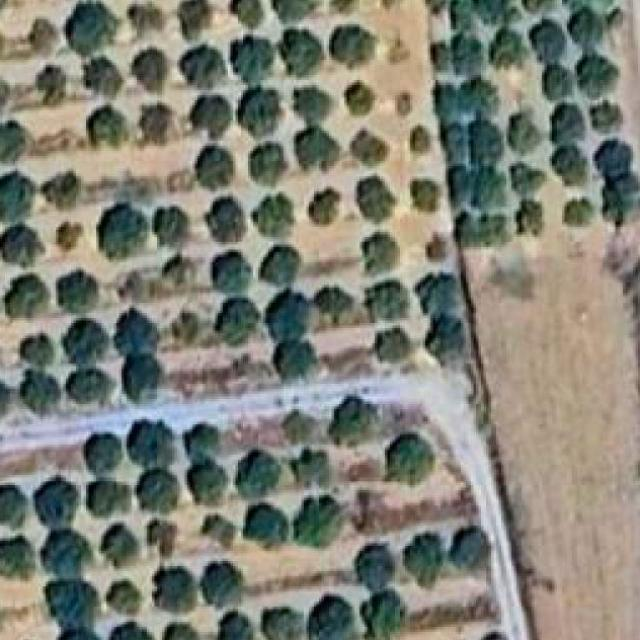Tree: (385, 424, 435, 494), (30, 473, 83, 535), (327, 394, 377, 454), (147, 564, 198, 620), (246, 498, 303, 548), (405, 524, 451, 584), (0, 212, 49, 268), (451, 202, 509, 249), (109, 302, 158, 357), (69, 0, 117, 56), (119, 351, 166, 407), (86, 103, 136, 154), (132, 465, 182, 516), (296, 124, 343, 178), (360, 588, 408, 640), (96, 205, 143, 258), (246, 85, 291, 140), (418, 267, 469, 315), (427, 316, 475, 367), (454, 526, 497, 582), (352, 230, 401, 279), (190, 95, 240, 143), (46, 576, 94, 626), (38, 526, 85, 577), (216, 301, 264, 350), (271, 338, 320, 386), (200, 556, 245, 608), (253, 191, 301, 239), (296, 490, 342, 540), (58, 267, 105, 315), (205, 250, 252, 298), (527, 19, 573, 67), (235, 458, 280, 507), (125, 419, 169, 469), (187, 422, 237, 466), (81, 50, 127, 97), (230, 38, 276, 85), (306, 593, 351, 640), (137, 100, 181, 148), (604, 166, 640, 224), (397, 166, 444, 210), (357, 176, 400, 224), (268, 288, 311, 335), (352, 543, 395, 590), (180, 45, 225, 89), (18, 369, 63, 413), (61, 364, 116, 400), (23, 12, 67, 57), (10, 267, 52, 314), (365, 286, 412, 328), (504, 105, 546, 152), (258, 240, 297, 289), (64, 323, 107, 367), (79, 429, 122, 473), (155, 199, 195, 246), (326, 24, 372, 64), (550, 141, 593, 183), (464, 113, 505, 157), (471, 169, 512, 213), (0, 169, 38, 216), (245, 146, 293, 183), (101, 519, 142, 562), (580, 50, 619, 95), (20, 328, 59, 372), (130, 45, 169, 88), (212, 601, 255, 640), (292, 445, 332, 486), (459, 78, 500, 118), (304, 186, 342, 229), (0, 533, 32, 583), (44, 171, 86, 209), (378, 328, 422, 364), (147, 515, 183, 559), (595, 136, 631, 179), (220, 0, 264, 35), (422, 80, 457, 124), (203, 196, 241, 236), (395, 118, 433, 158), (314, 283, 355, 320), (292, 79, 327, 122), (197, 146, 236, 184), (550, 103, 584, 146), (0, 115, 31, 162), (352, 129, 390, 167), (491, 27, 524, 70), (261, 604, 300, 640), (424, 36, 454, 82), (106, 581, 143, 618), (175, 0, 212, 36), (339, 80, 376, 116), (89, 480, 123, 519), (159, 255, 191, 296), (189, 463, 223, 501), (562, 196, 597, 232), (511, 163, 546, 198), (570, 7, 602, 45), (0, 478, 22, 531), (53, 217, 87, 251), (542, 65, 576, 99), (281, 407, 316, 438), (449, 156, 474, 199), (447, 0, 482, 30), (592, 100, 620, 137), (273, 0, 312, 26), (106, 619, 153, 640), (435, 122, 464, 156), (160, 618, 203, 640), (200, 515, 230, 546), (35, 68, 66, 98), (599, 0, 629, 30), (175, 313, 203, 344), (477, 0, 511, 25), (128, 0, 156, 30), (393, 93, 421, 118), (516, 199, 539, 229), (54, 624, 97, 640), (326, 0, 361, 17), (522, 0, 559, 16), (425, 232, 448, 257), (469, 632, 518, 640), (564, 0, 598, 10)
